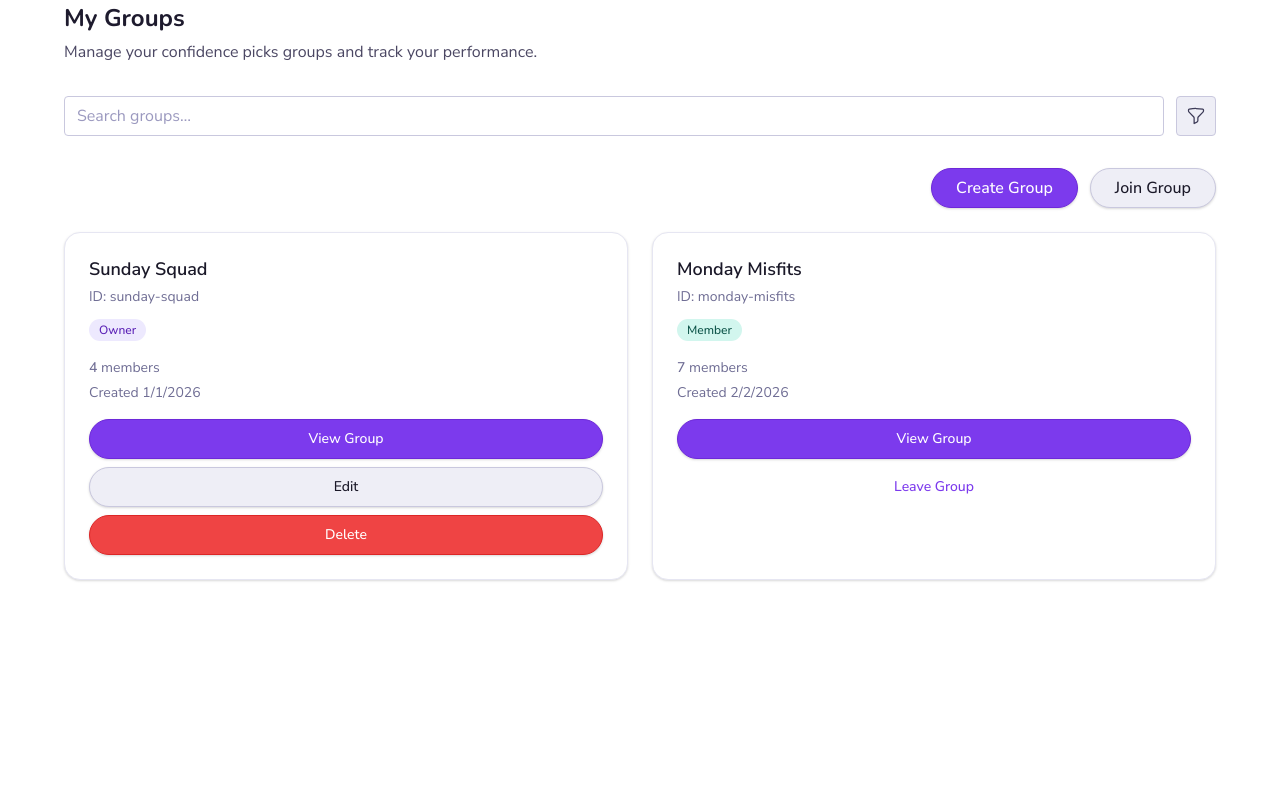
Scenario: GroupsPage › filters the visible cards when a filter is applied
expect the heading "Sunday Squad" is shown: met, box [89, 257, 208, 281]
expect the heading "Monday Misfits" is shown: met, box [677, 257, 802, 281]
Open the filter popover and restrict to "Groups I own".
Click the button named "filters" at (1196, 116), box [1176, 96, 1216, 136]
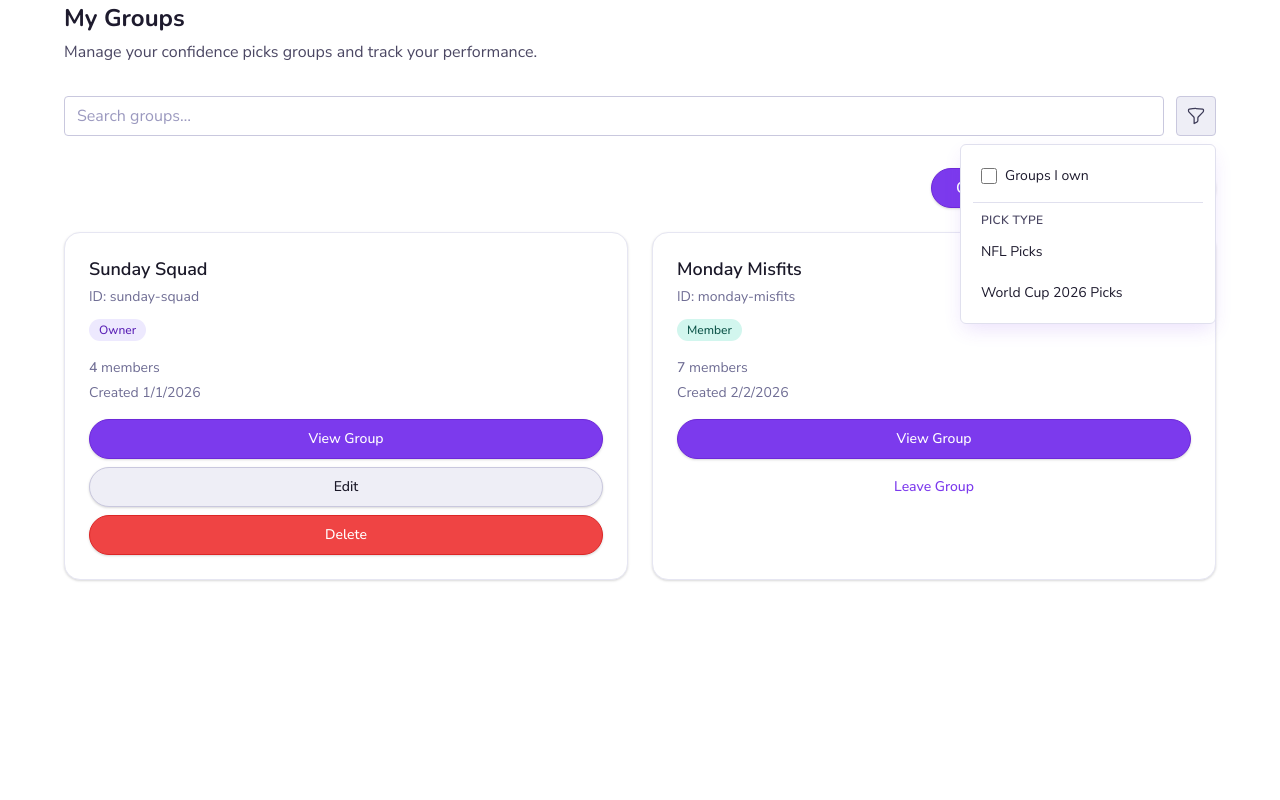
Click the checkbox labelled "Groups I own" at (989, 176), box [981, 168, 997, 184]
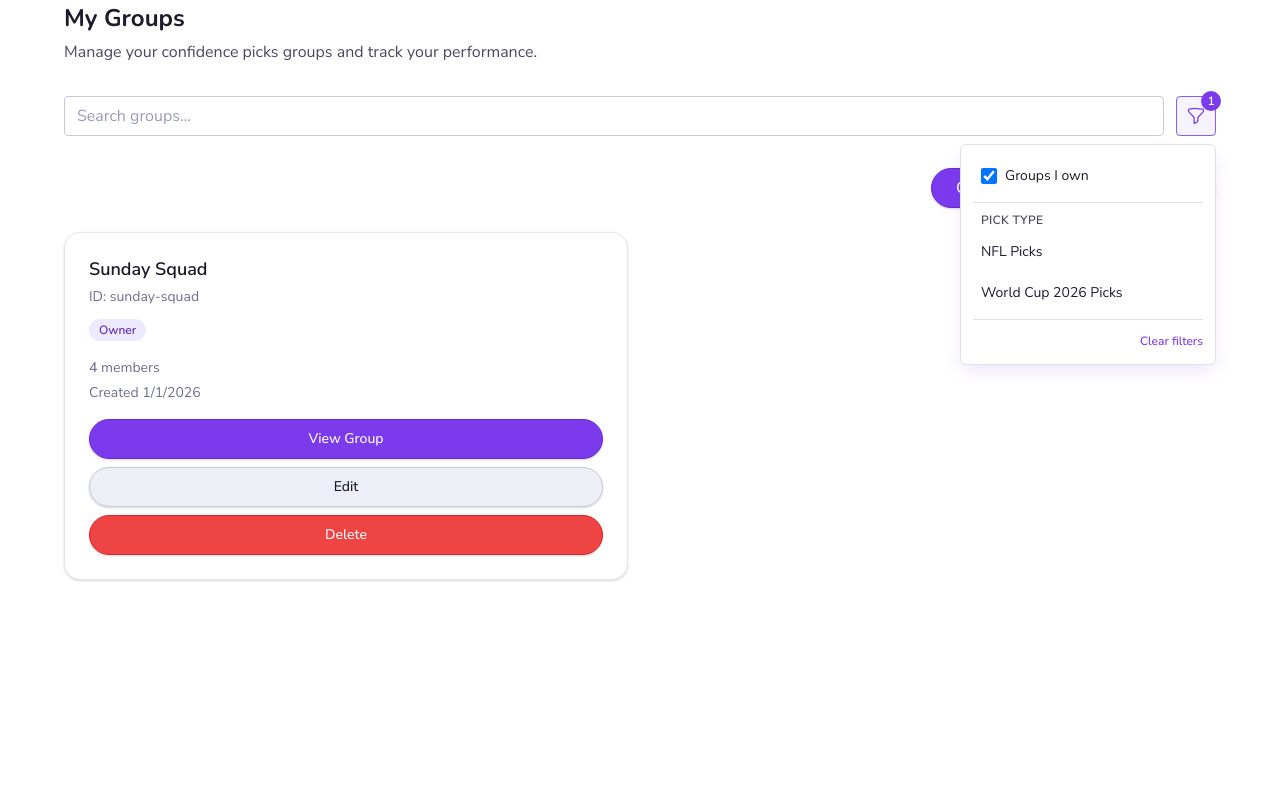
expect the heading "Sunday Squad" is shown: met, box [89, 257, 208, 281]
expect the heading "Monday Misfits" is gone: met
